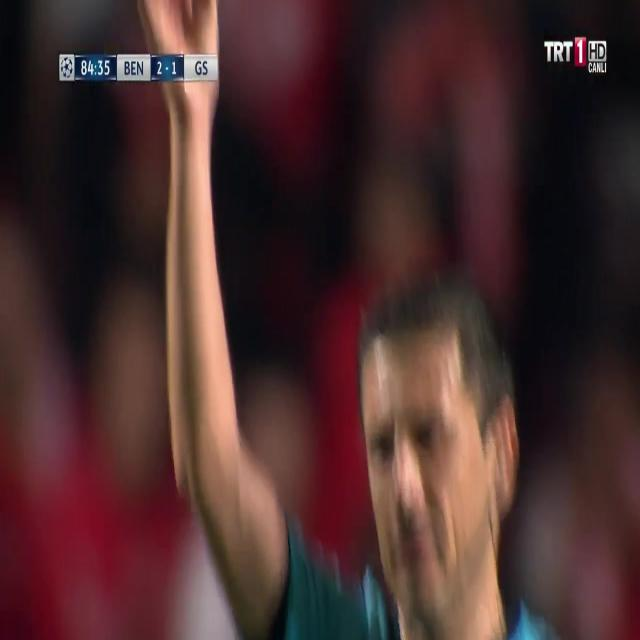Referee: (137, 2, 575, 640)
